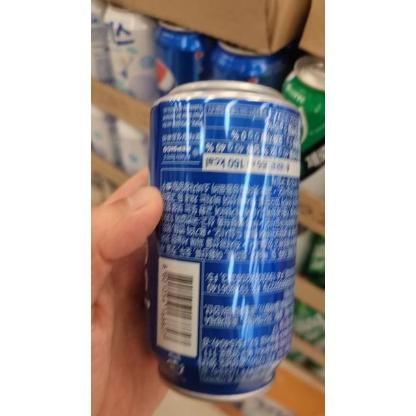Can: (146, 80, 302, 400)
